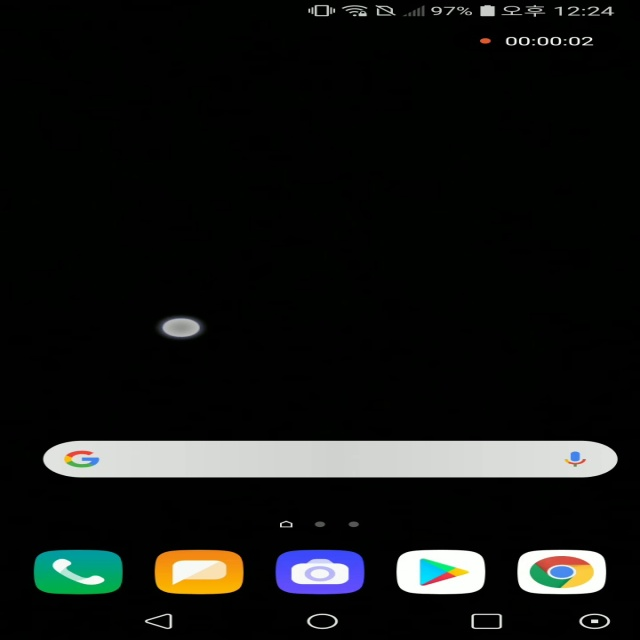Cursor: (160, 317, 204, 339)
